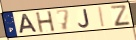7: (55, 9, 71, 32)
A: (19, 13, 39, 35)
H: (35, 10, 57, 34)
I: (98, 6, 107, 28)
J: (77, 8, 91, 29)
Z: (109, 5, 132, 28)
